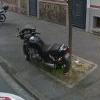Motorcycle: (13, 26, 86, 82)
